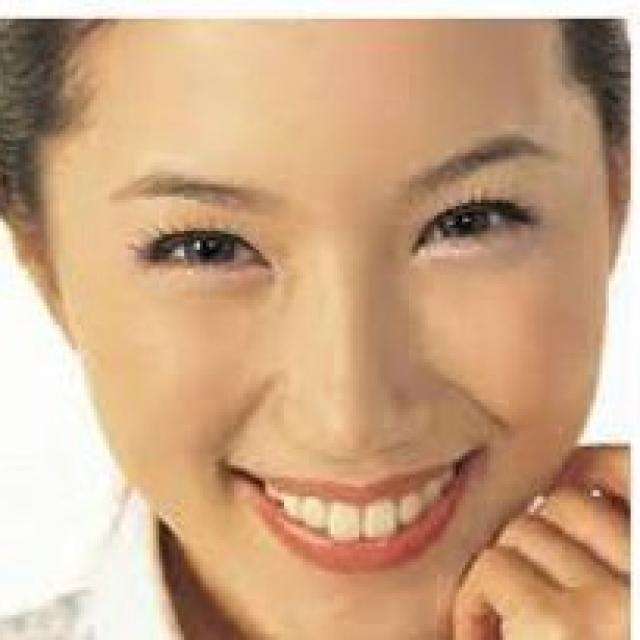Normal: (35, 23, 608, 637)
